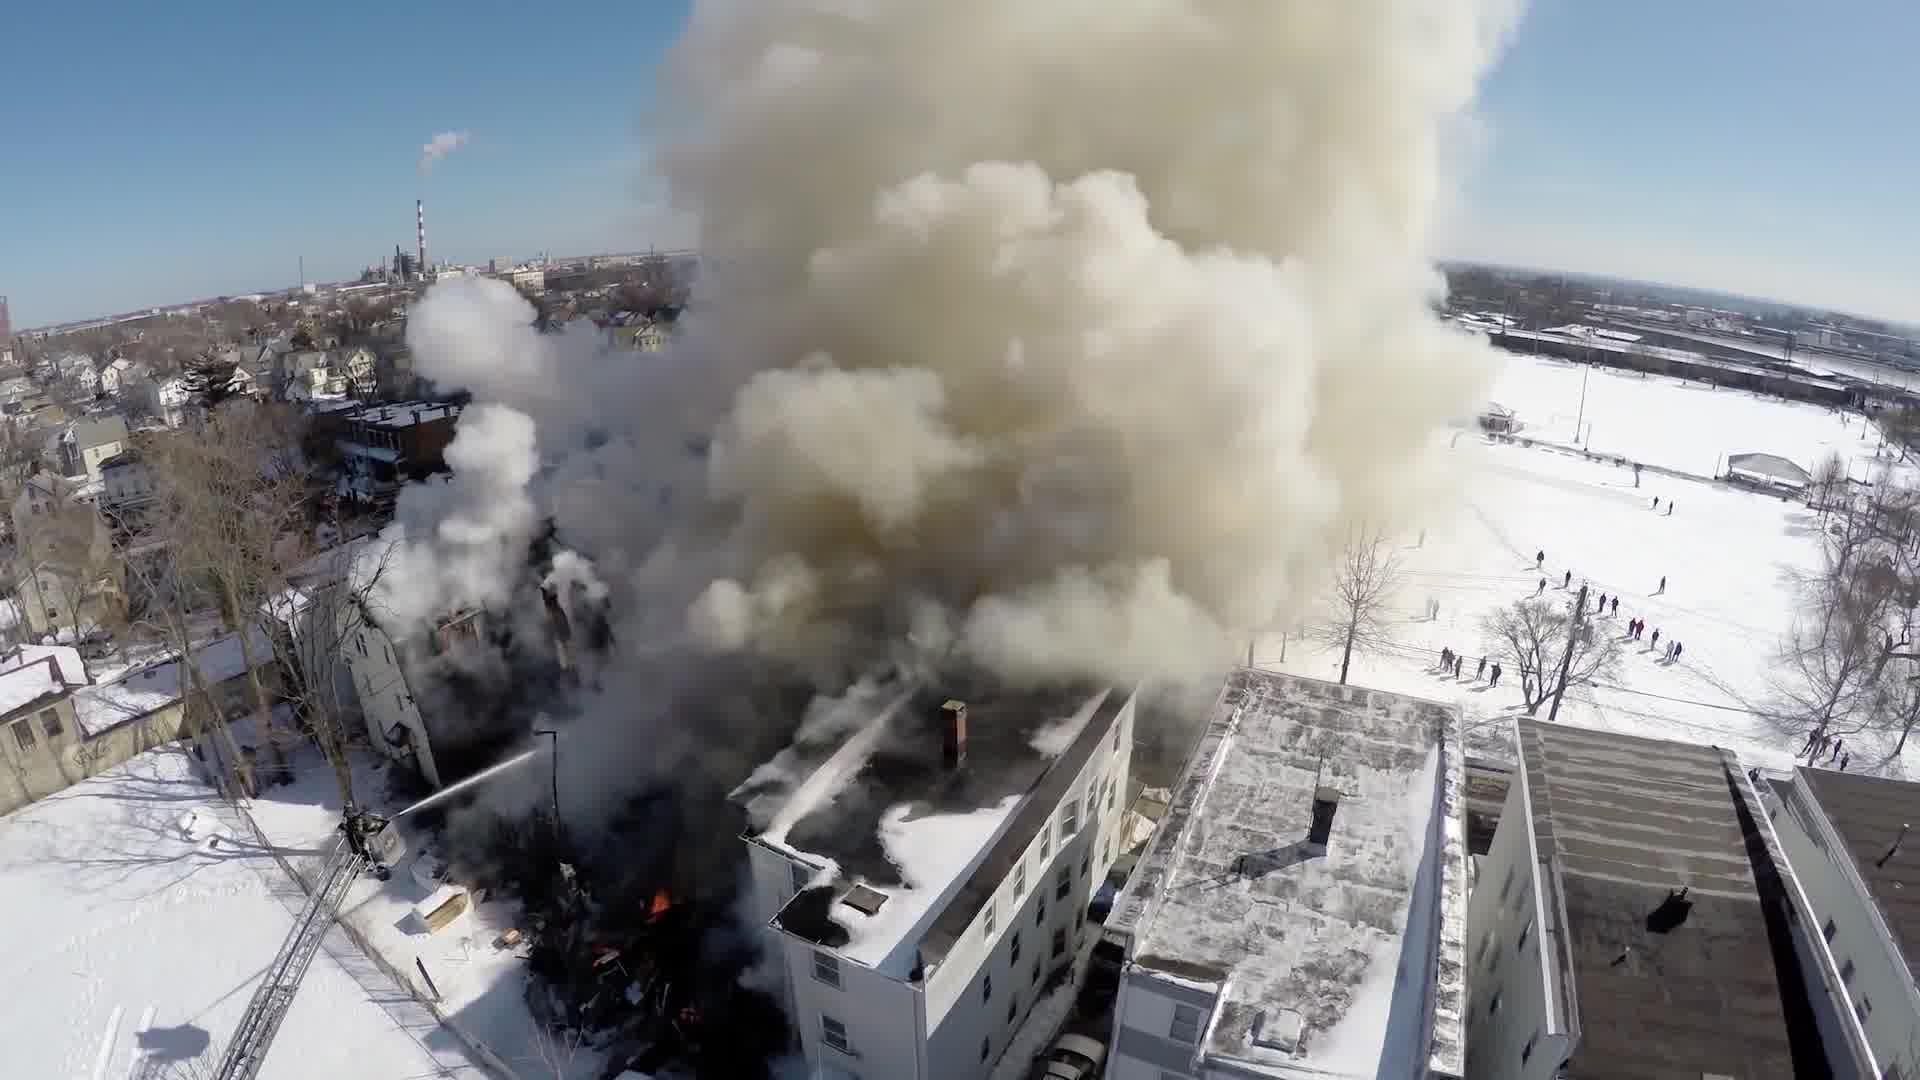smoke: (750, 42, 1389, 615)
